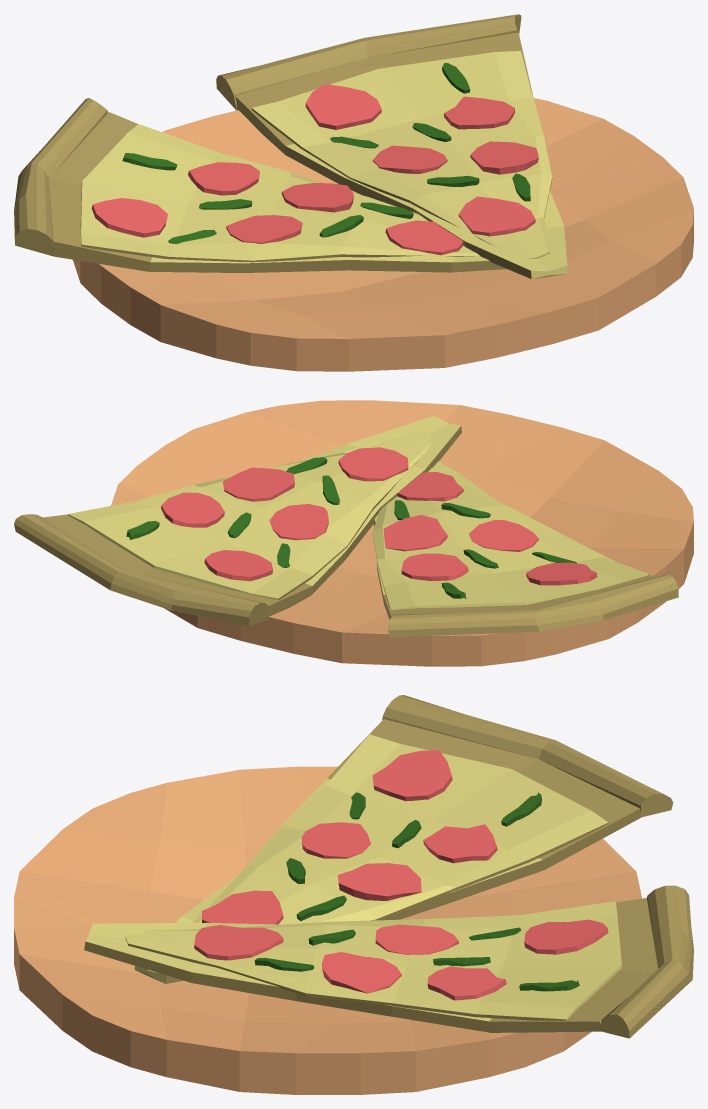
File: Pizza.fbx
The picture shows the model from 3 angles, top to bottom: view 1: azimuth 30°, elevation 25°; view 2: azimuth 150°, elevation 25°; view 3: azimuth 270°, elevation 25°; orthographic projection. The views are drawn at different scales.
Parts seen in each view (by area): view 1: pizza2.001; view 2: pizza2.001; view 3: pizza2.001.
Boxes of the visible parts, bbox=[...] form: pizza2.001: bbox=[14, 14, 693, 371]; pizza2.001: bbox=[14, 400, 693, 666]; pizza2.001: bbox=[14, 695, 693, 1094].
Bounding box in the file's own units: 0.4002 × 0.0667 × 0.3522.
